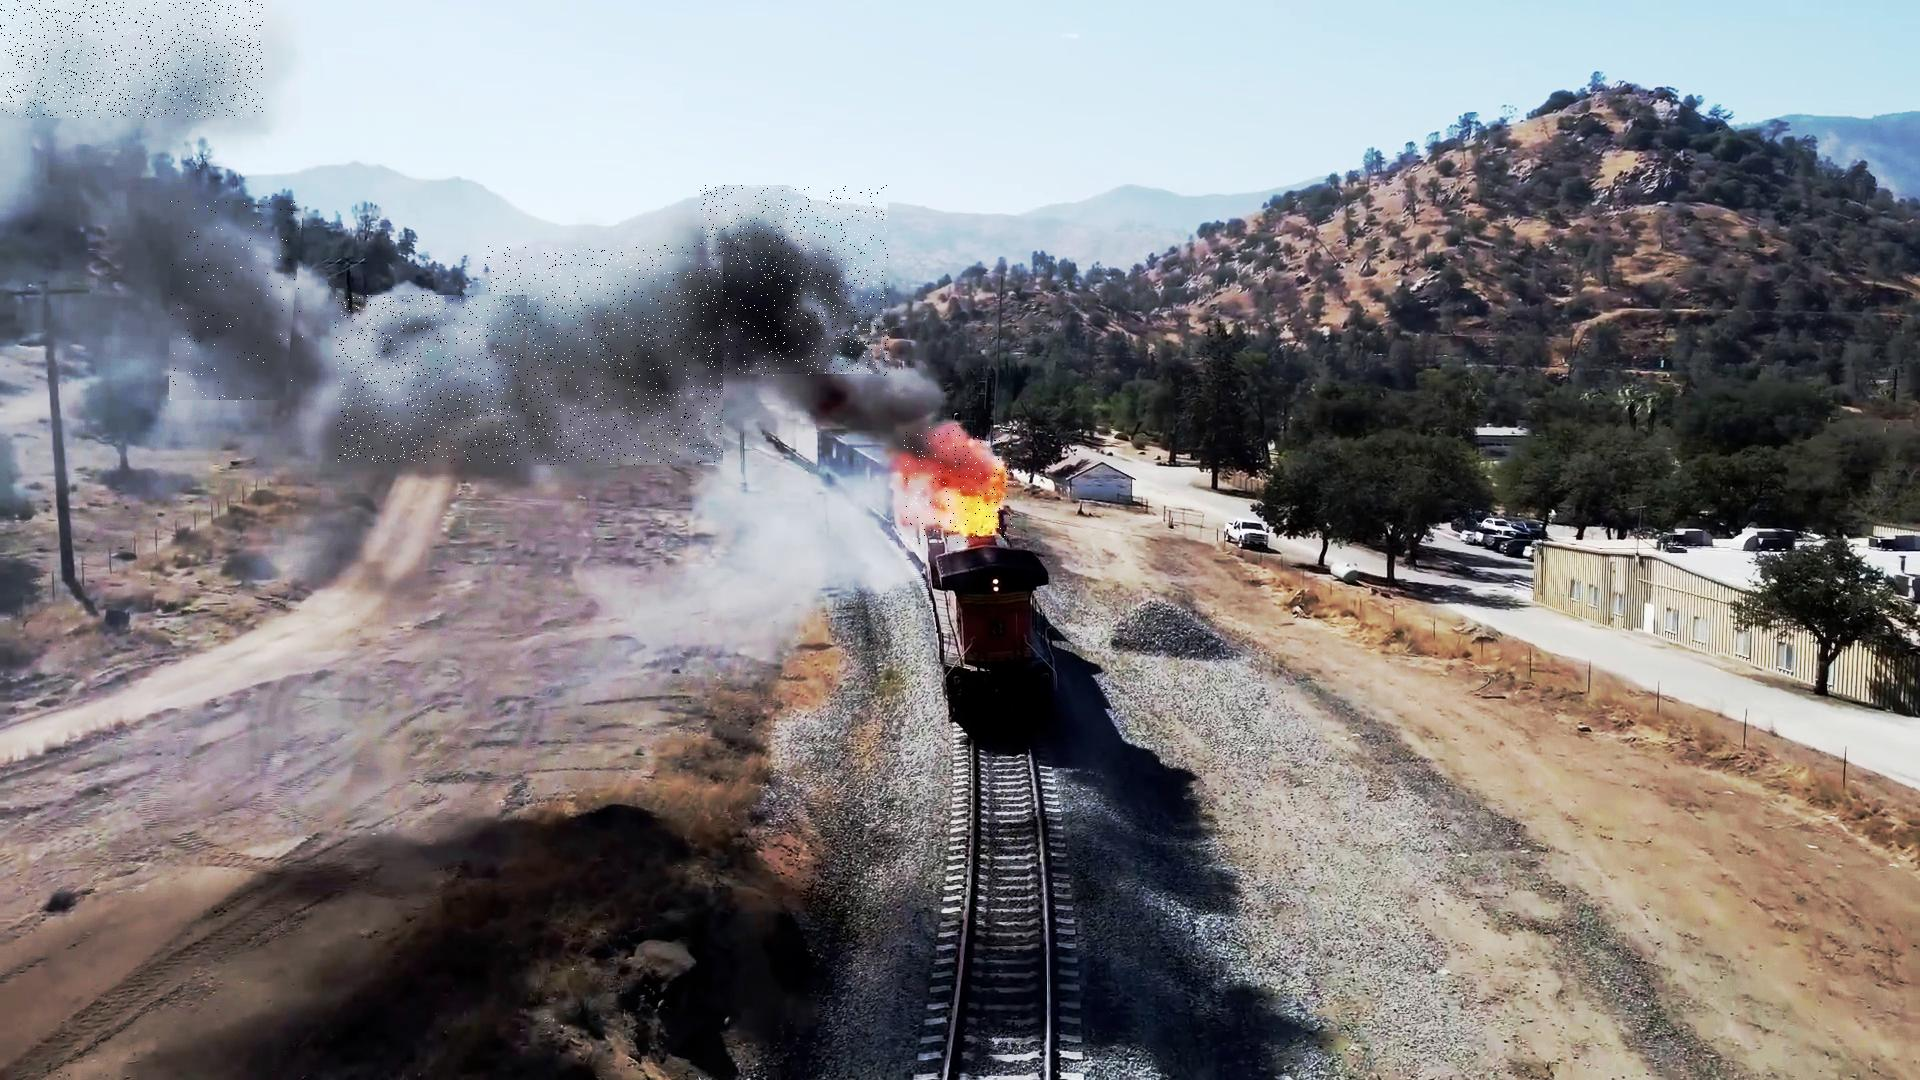fire: (903, 425, 1017, 545)
smoke: (477, 245, 723, 465), (700, 186, 889, 377), (335, 295, 527, 463), (0, 0, 262, 117), (169, 200, 303, 404)
